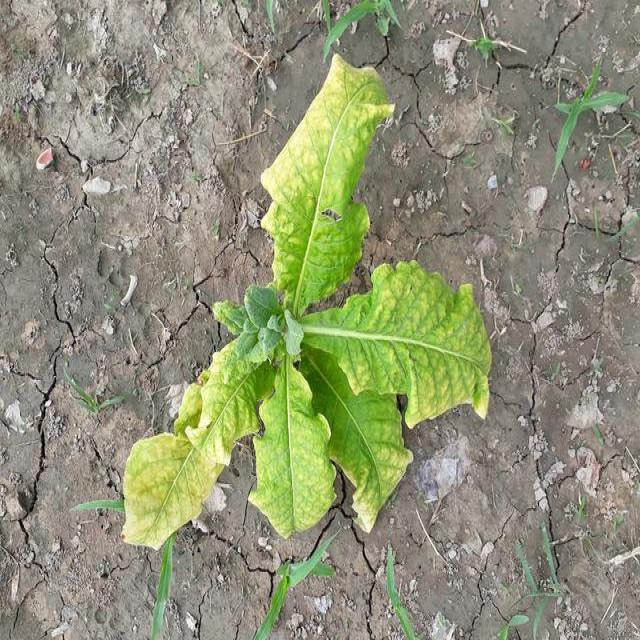crop: (117, 58, 496, 538)
